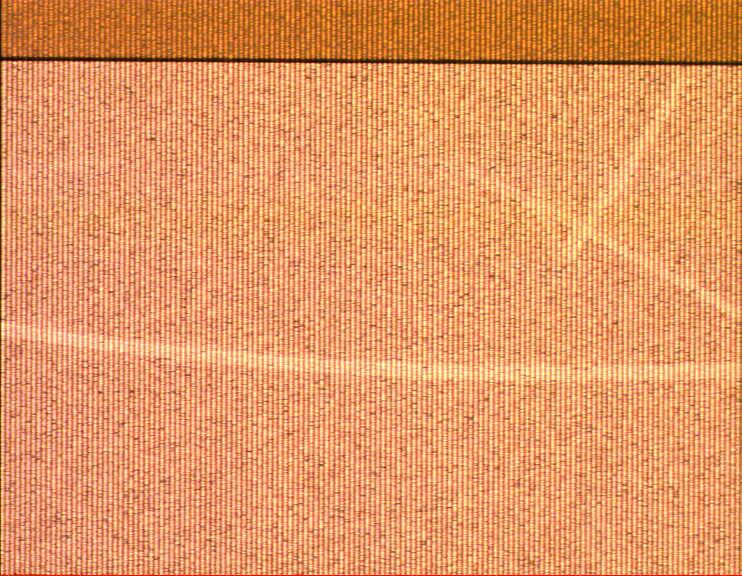SCRATCH: (1, 55, 742, 395)
